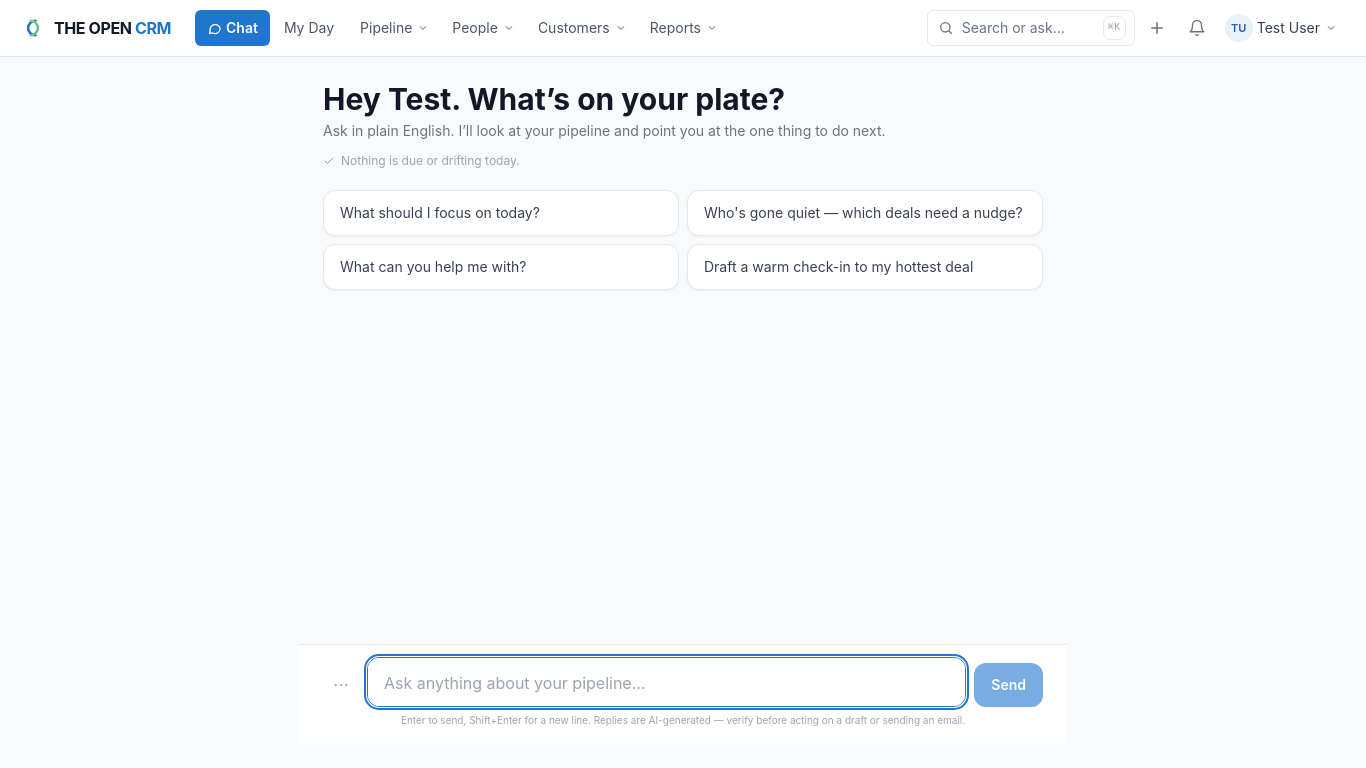
Test: Chat streaming › falls back to POST /ai/chat when the stream fails before its first event
The width and height of the screenshot is (1366, 768).
Type "hello" into the text box named "Message" at (667, 682), box [367,657,966,707]
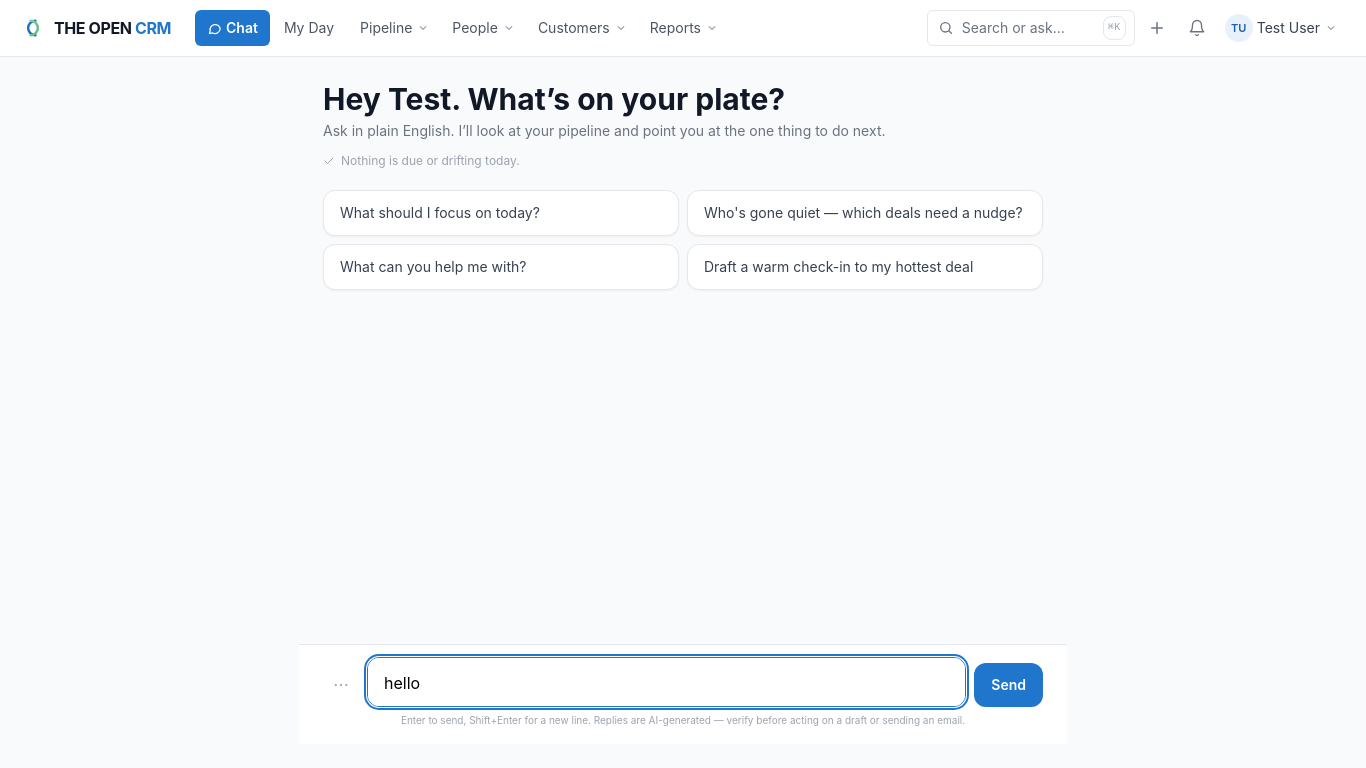
Press Enter in the text box named "Message", box [367,657,966,707]
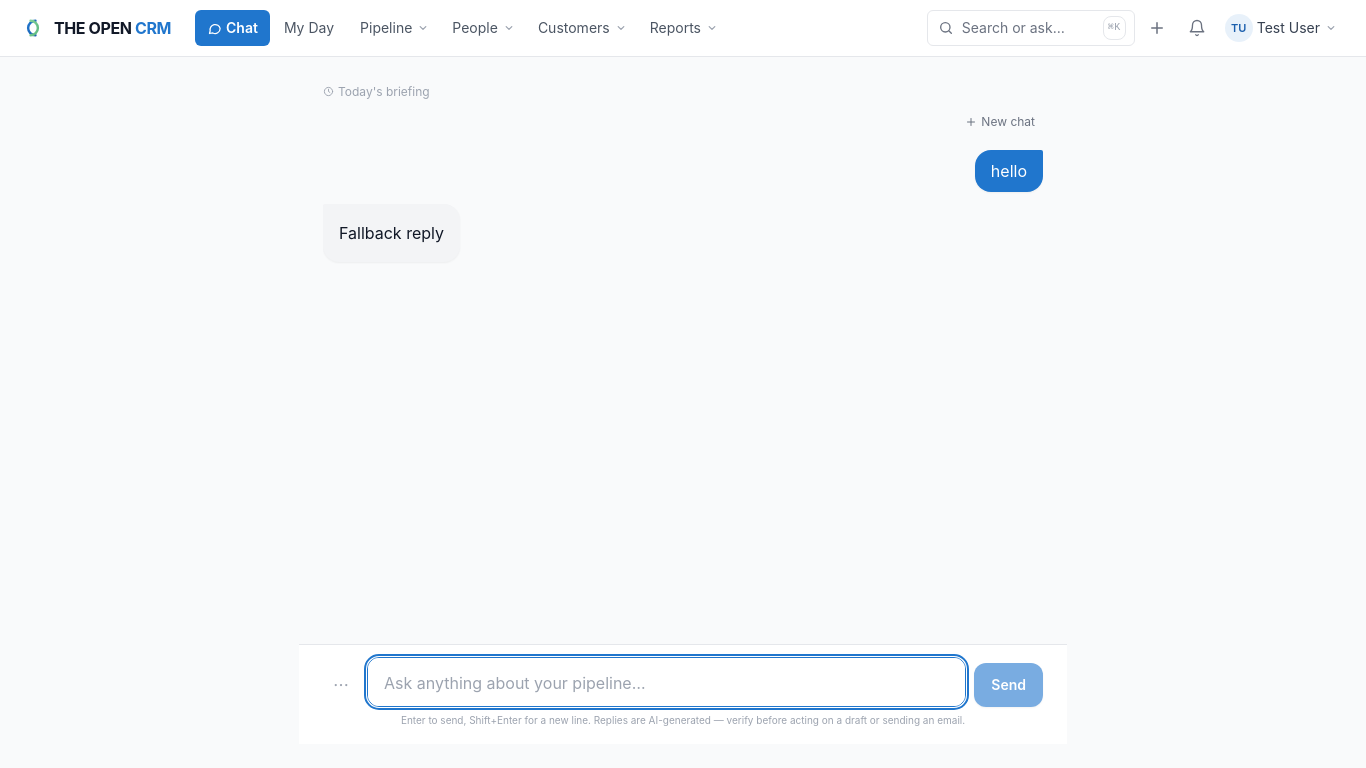
Expected: the text "Fallback reply" is shown, [339,220,444,246]
